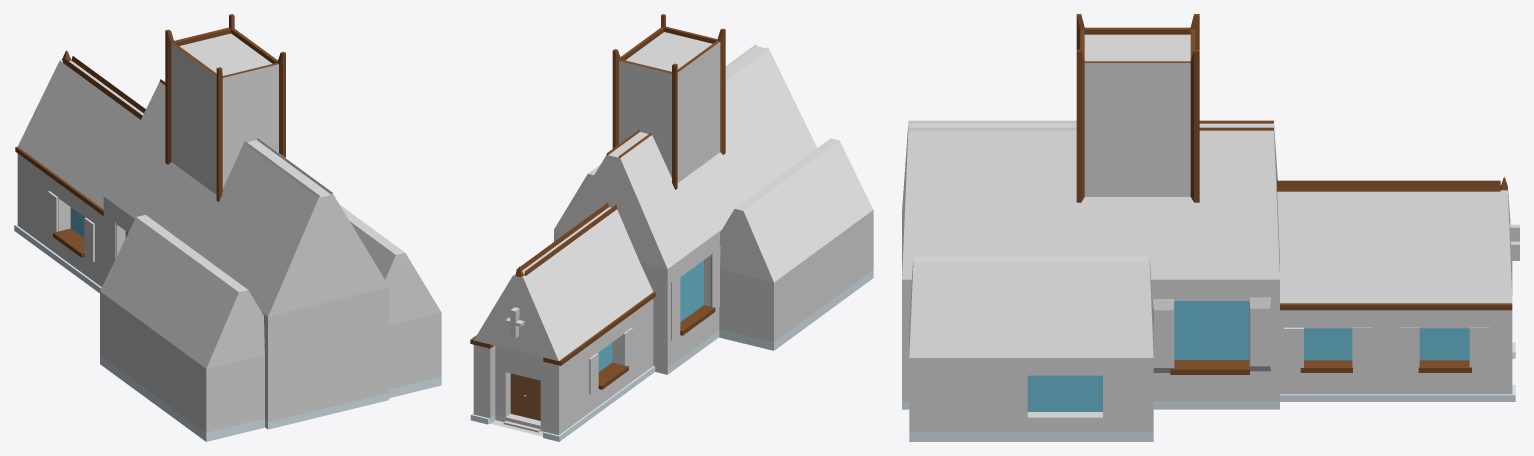
The model's file is church  re shaded.fbx.
3 views of the same model, side by side, from view 1: azimuth 30°, elevation 25°; view 2: azimuth 150°, elevation 25°; view 3: azimuth 270°, elevation 25° (orthographic). The views are drawn at different scales.
Parts seen in each view (by area): view 1: church; view 2: church; view 3: church.
Boxes of the visible parts, x1=… form: church: x1=14, y1=14, x2=441, y2=441; church: x1=470, y1=14, x2=873, y2=441; church: x1=902, y1=14, x2=1519, y2=441.
Size of the model in its own units: 939 by 1142 by 1859.
